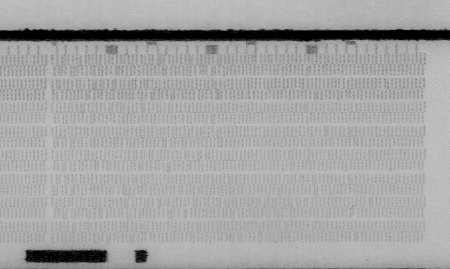Oblique printing: (55, 137, 198, 244), (57, 54, 228, 102), (308, 77, 342, 101), (224, 173, 242, 197), (306, 172, 319, 195), (362, 194, 376, 209), (378, 77, 390, 90), (256, 230, 267, 242), (350, 206, 360, 219)
